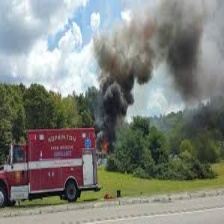smoke: (101, 2, 221, 140)
